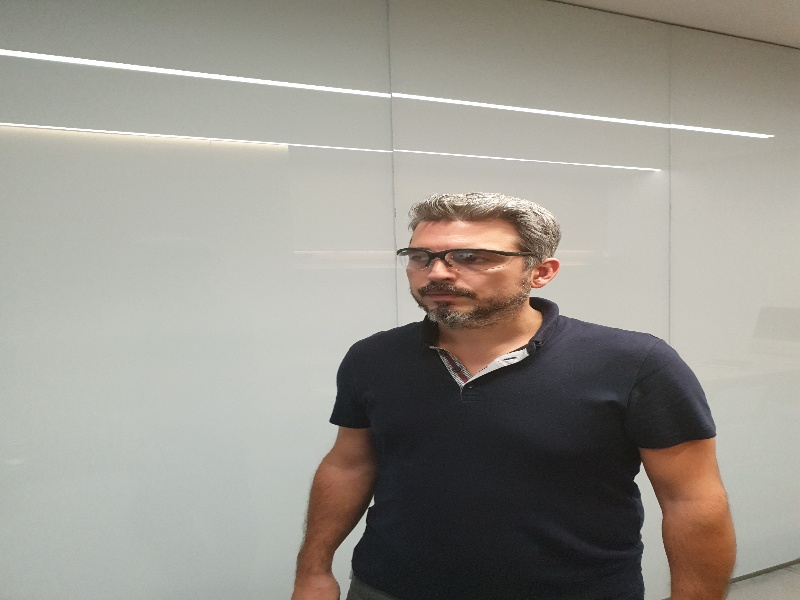Gozluk: (397, 248, 534, 269)
